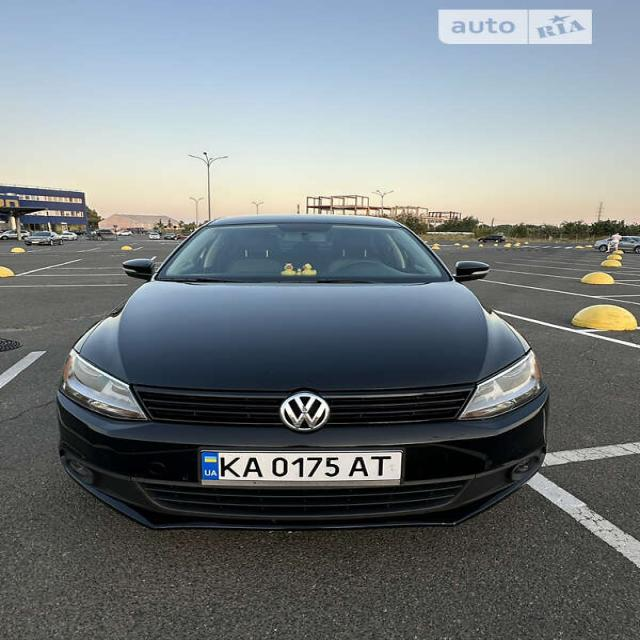plate: (196, 440, 420, 499)
